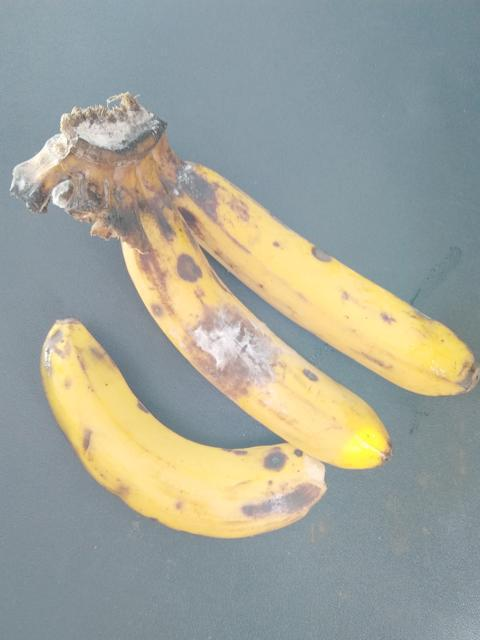overripe: (168, 155, 479, 398), (27, 306, 321, 557), (110, 220, 384, 462)
rotten: (129, 267, 318, 415)
